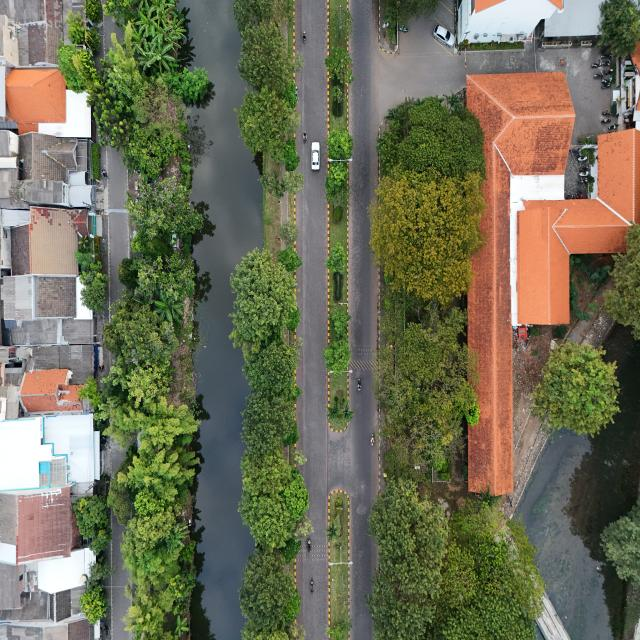Tree: (535, 342, 620, 436), (79, 274, 110, 314), (324, 44, 354, 84), (79, 586, 109, 624), (323, 339, 351, 374), (327, 125, 354, 158), (324, 162, 349, 194), (328, 308, 351, 340), (324, 242, 347, 274), (277, 245, 302, 272), (325, 617, 353, 640), (283, 137, 299, 171), (282, 171, 304, 194), (278, 220, 298, 245), (322, 518, 342, 540), (325, 402, 342, 422), (290, 447, 307, 466), (332, 85, 348, 104), (343, 400, 355, 420), (76, 385, 88, 400), (86, 377, 96, 388)
